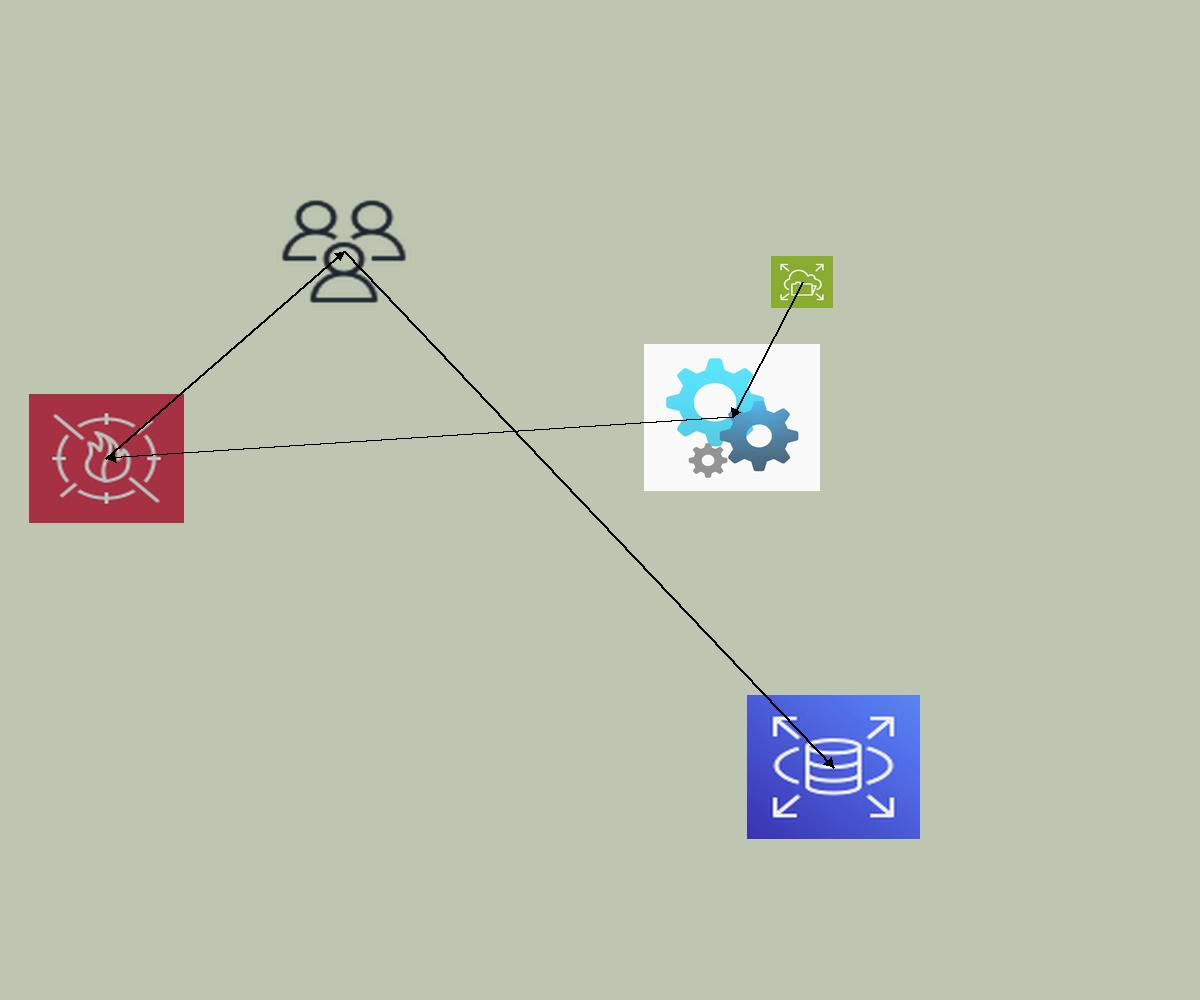AWS-EFS: (771, 256, 833, 308)
AWS-RDS: (747, 695, 920, 839)
AWS-Res_Users: (277, 196, 411, 307)
AWS-WAF: (29, 394, 184, 523)
Azure_api: (644, 344, 820, 491)
